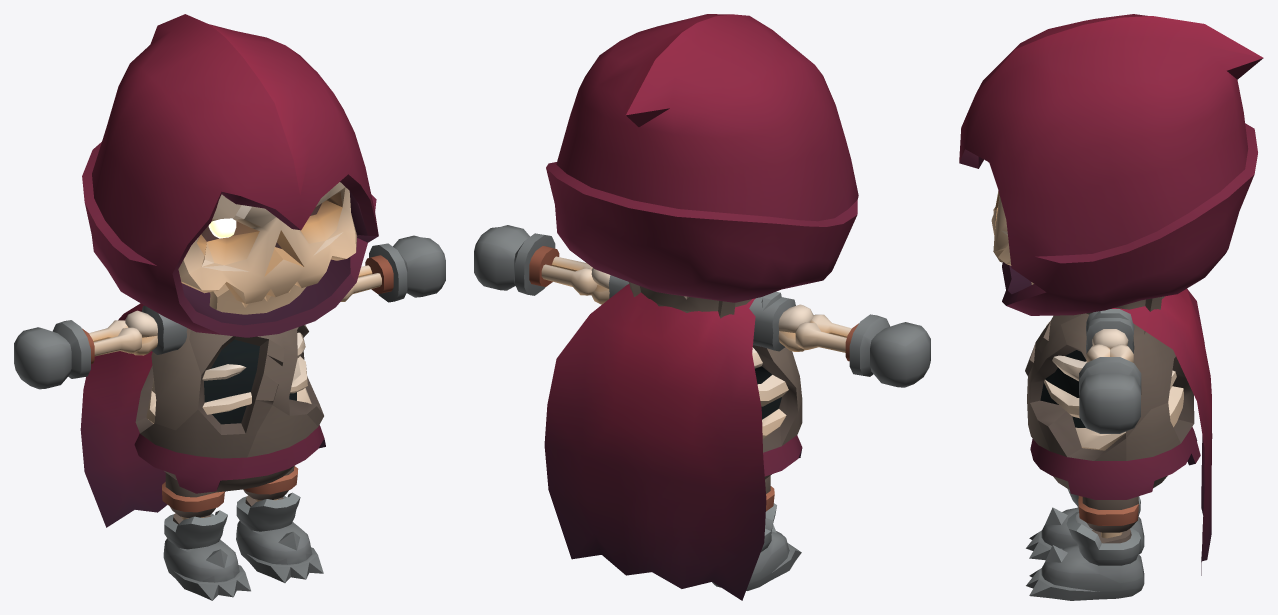
File: Skeleton_Rogue.glb
3 renders of one model, left to right at view 1: azimuth 30°, elevation 25°; view 2: azimuth 150°, elevation 25°; view 3: azimuth 270°, elevation 25°, orthographic. The views are drawn at different scales.
Visible parts, largest first — view 1: Skeleton_Rogue_Hood, Skeleton_Rogue_Body, Skeleton_Rogue_Head, Skeleton_Rogue_Cape, Skeleton_Rogue_ArmRight, Skeleton_Rogue_LegRight, Skeleton_Rogue_LegLeft, Skeleton_Rogue_ArmLeft, Skeleton_Rogue_Jaw; view 2: Skeleton_Rogue_Hood, Skeleton_Rogue_Cape, Skeleton_Rogue_ArmRight, Skeleton_Rogue_ArmLeft, Skeleton_Rogue_Body, Skeleton_Rogue_LegRight; view 3: Skeleton_Rogue_Hood, Skeleton_Rogue_Body, Skeleton_Rogue_LegLeft, Skeleton_Rogue_ArmLeft, Skeleton_Rogue_Cape, Skeleton_Rogue_LegRight, Skeleton_Rogue_Head.
Part boxes in pixels (left/top/right/bottom): Skeleton_Rogue_Hood: left=82, top=14, right=378, bottom=337; Skeleton_Rogue_Body: left=134, top=325, right=325, bottom=493; Skeleton_Rogue_Head: left=178, top=182, right=357, bottom=303; Skeleton_Rogue_Cape: left=80, top=303, right=225, bottom=527; Skeleton_Rogue_ArmRight: left=14, top=305, right=186, bottom=389; Skeleton_Rogue_LegRight: left=162, top=472, right=250, bottom=600; Skeleton_Rogue_LegLeft: left=236, top=466, right=323, bottom=582; Skeleton_Rogue_ArmLeft: left=340, top=235, right=445, bottom=302; Skeleton_Rogue_Jaw: left=209, top=284, right=305, bottom=314; Skeleton_Rogue_Hood: left=546, top=14, right=858, bottom=302; Skeleton_Rogue_Cape: left=544, top=284, right=766, bottom=600; Skeleton_Rogue_ArmRight: left=749, top=291, right=930, bottom=387; Skeleton_Rogue_ArmLeft: left=474, top=225, right=628, bottom=304; Skeleton_Rogue_Body: left=629, top=282, right=802, bottom=479; Skeleton_Rogue_LegRight: left=712, top=476, right=801, bottom=590; Skeleton_Rogue_Hood: left=959, top=14, right=1263, bottom=315; Skeleton_Rogue_Body: left=1025, top=296, right=1200, bottom=499; Skeleton_Rogue_LegLeft: left=1026, top=496, right=1144, bottom=600; Skeleton_Rogue_ArmLeft: left=1079, top=309, right=1141, bottom=433; Skeleton_Rogue_Cape: left=1111, top=288, right=1212, bottom=575; Skeleton_Rogue_LegRight: left=1026, top=489, right=1144, bottom=560; Skeleton_Rogue_Head: left=991, top=191, right=1011, bottom=265.
Bounding box in the file's own units: 1.94 × 2.31 × 1.15.
Materials: 2 (1 with a texture image).
